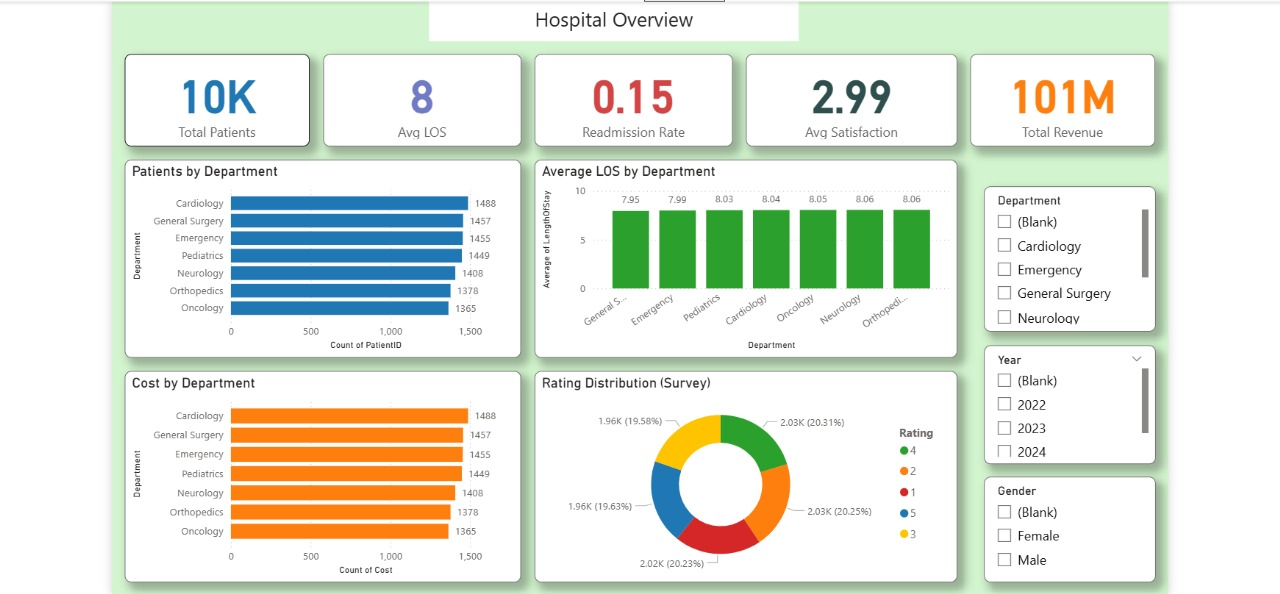

This screenshot's page, from the dashboard's own definition file:
{"tool":"powerbi","page":{"name":"Hospital Overview","canvas":[1280,720],"ordinal":0},"visuals":[{"type":"card","fields":{"Values":["FactTreatments.Avg LOS"]},"box":[256,64,240,112],"z":0},{"type":"card","fields":{"Values":["FactTreatments.Readmission Rate"]},"box":[512,64,240,112],"z":1000},{"type":"card","fields":{"Values":["FactTreatments.Avg Satisfaction"]},"box":[768,64,256,112],"z":2000},{"type":"card","fields":{"Values":["FactTreatments.Total Revenue"]},"box":[1040,64,224,112],"z":3000},{"type":"clusteredBarChart","title":"Patients by Department","fields":{"Category":["DimPatients.Department"],"Y":["Count(DimPatients.PatientID)"]},"box":[16,192,480,240],"z":4000},{"type":"clusteredColumnChart","title":"Average LOS by Department","fields":{"Category":["DimPatients.Department"],"Y":["Avg(DimPatients.LengthOfStay)"]},"box":[512,192,512,240],"z":5000},{"type":"clusteredBarChart","title":"Cost by Department","fields":{"Category":["DimPatients.Department"],"Y":["CountNonNull(FactTreatments.Cost)"]},"box":[16,448,480,256],"z":6000},{"type":"donutChart","title":"Rating Distribution (Survey)","fields":{"Y":["CountNonNull(DimPatients.PatientID)"],"Category":["FactSurvey.Rating"]},"box":[512,448,512,256],"z":7000},{"type":"slicer","fields":{"Values":["DimPatients.Department"]},"box":[1056,224,208,176],"z":8000},{"type":"textbox","box":[384,0,448,48],"z":9000},{"type":"slicer","fields":{"Values":["DimDate.Year"]},"box":[1056,416,208,144],"z":10000},{"type":"slicer","fields":{"Values":["DimPatients.Gender"]},"box":[1056,576,208,128],"z":11000},{"type":"card","fields":{"Values":["FactTreatments.Total Patients"]},"box":[16,64,224,112],"z":12000}]}

Visuals, with their boxes on the page's 1280x720 design canvas (x1, y1, x2, y2). These are canvas units, not pixel positions in the 1280x594 screenshot, which may show the page scaled, cropped or inside an application window:
card - FactTreatments.Avg LOS: 256,64,496,176
card - FactTreatments.Readmission Rate: 512,64,752,176
card - FactTreatments.Avg Satisfaction: 768,64,1024,176
card - FactTreatments.Total Revenue: 1040,64,1264,176
"Patients by Department" clusteredBarChart: 16,192,496,432
"Average LOS by Department" clusteredColumnChart: 512,192,1024,432
"Cost by Department" clusteredBarChart: 16,448,496,704
"Rating Distribution (Survey)" donutChart: 512,448,1024,704
slicer - DimPatients.Department: 1056,224,1264,400
textbox: 384,0,832,48
slicer - DimDate.Year: 1056,416,1264,560
slicer - DimPatients.Gender: 1056,576,1264,704
card - FactTreatments.Total Patients: 16,64,240,176
